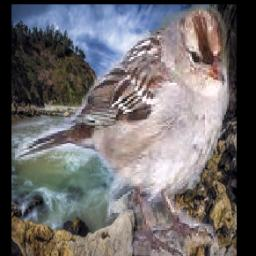Sparrow: (15, 5, 237, 256)
